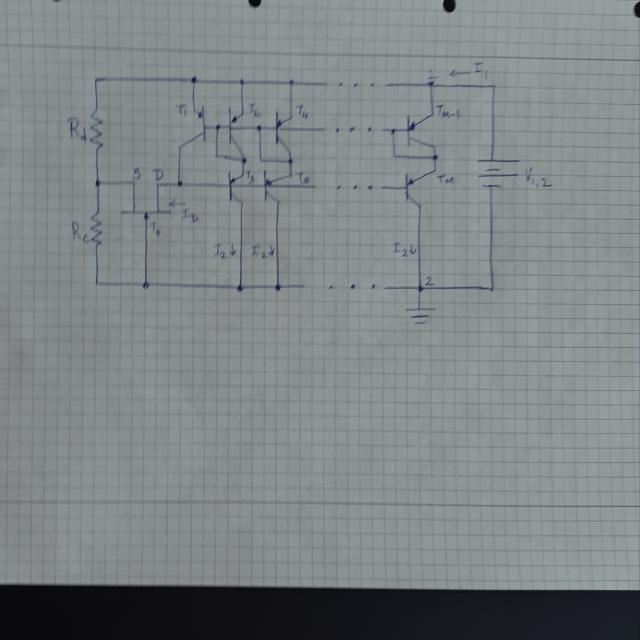ground: (404, 305, 435, 326)
junction: (235, 282, 244, 293), (93, 178, 102, 188), (141, 280, 150, 290), (415, 283, 424, 293), (489, 81, 498, 91), (274, 282, 282, 292), (426, 80, 434, 90), (488, 284, 496, 294), (190, 75, 198, 84), (287, 78, 295, 87), (389, 126, 397, 135), (176, 178, 183, 188), (240, 156, 248, 164), (238, 77, 245, 86), (92, 75, 99, 84), (255, 124, 262, 132), (391, 153, 398, 160), (214, 123, 220, 131), (287, 157, 293, 165), (432, 153, 438, 161), (94, 280, 100, 286), (258, 157, 263, 164), (214, 153, 219, 159)
resistor: (89, 108, 104, 152), (88, 208, 104, 247)
source: (468, 155, 523, 195)
text: (524, 162, 553, 190), (434, 102, 462, 124), (69, 218, 90, 245), (67, 116, 88, 142), (471, 56, 490, 80), (391, 240, 409, 258), (181, 206, 199, 224), (294, 170, 312, 188), (295, 103, 310, 123), (148, 221, 162, 240), (248, 101, 260, 119), (251, 243, 266, 257), (175, 102, 188, 117), (213, 243, 225, 259), (426, 67, 439, 80), (438, 174, 453, 185), (152, 167, 164, 180), (131, 166, 143, 179), (244, 169, 254, 183), (424, 274, 433, 286)
transistor: (118, 175, 172, 223), (402, 165, 437, 212), (402, 108, 437, 149), (260, 167, 294, 209), (176, 104, 208, 148), (273, 107, 296, 155), (225, 105, 245, 155), (224, 171, 242, 206)
